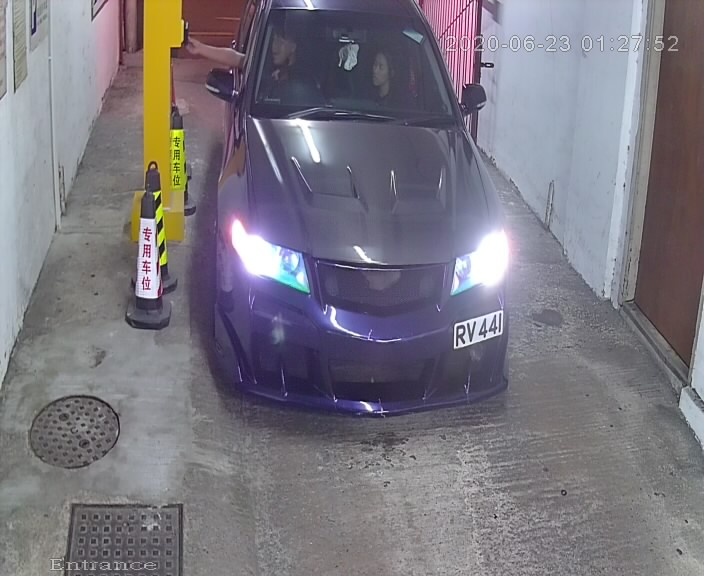privatecar: (175, 1, 517, 455)
